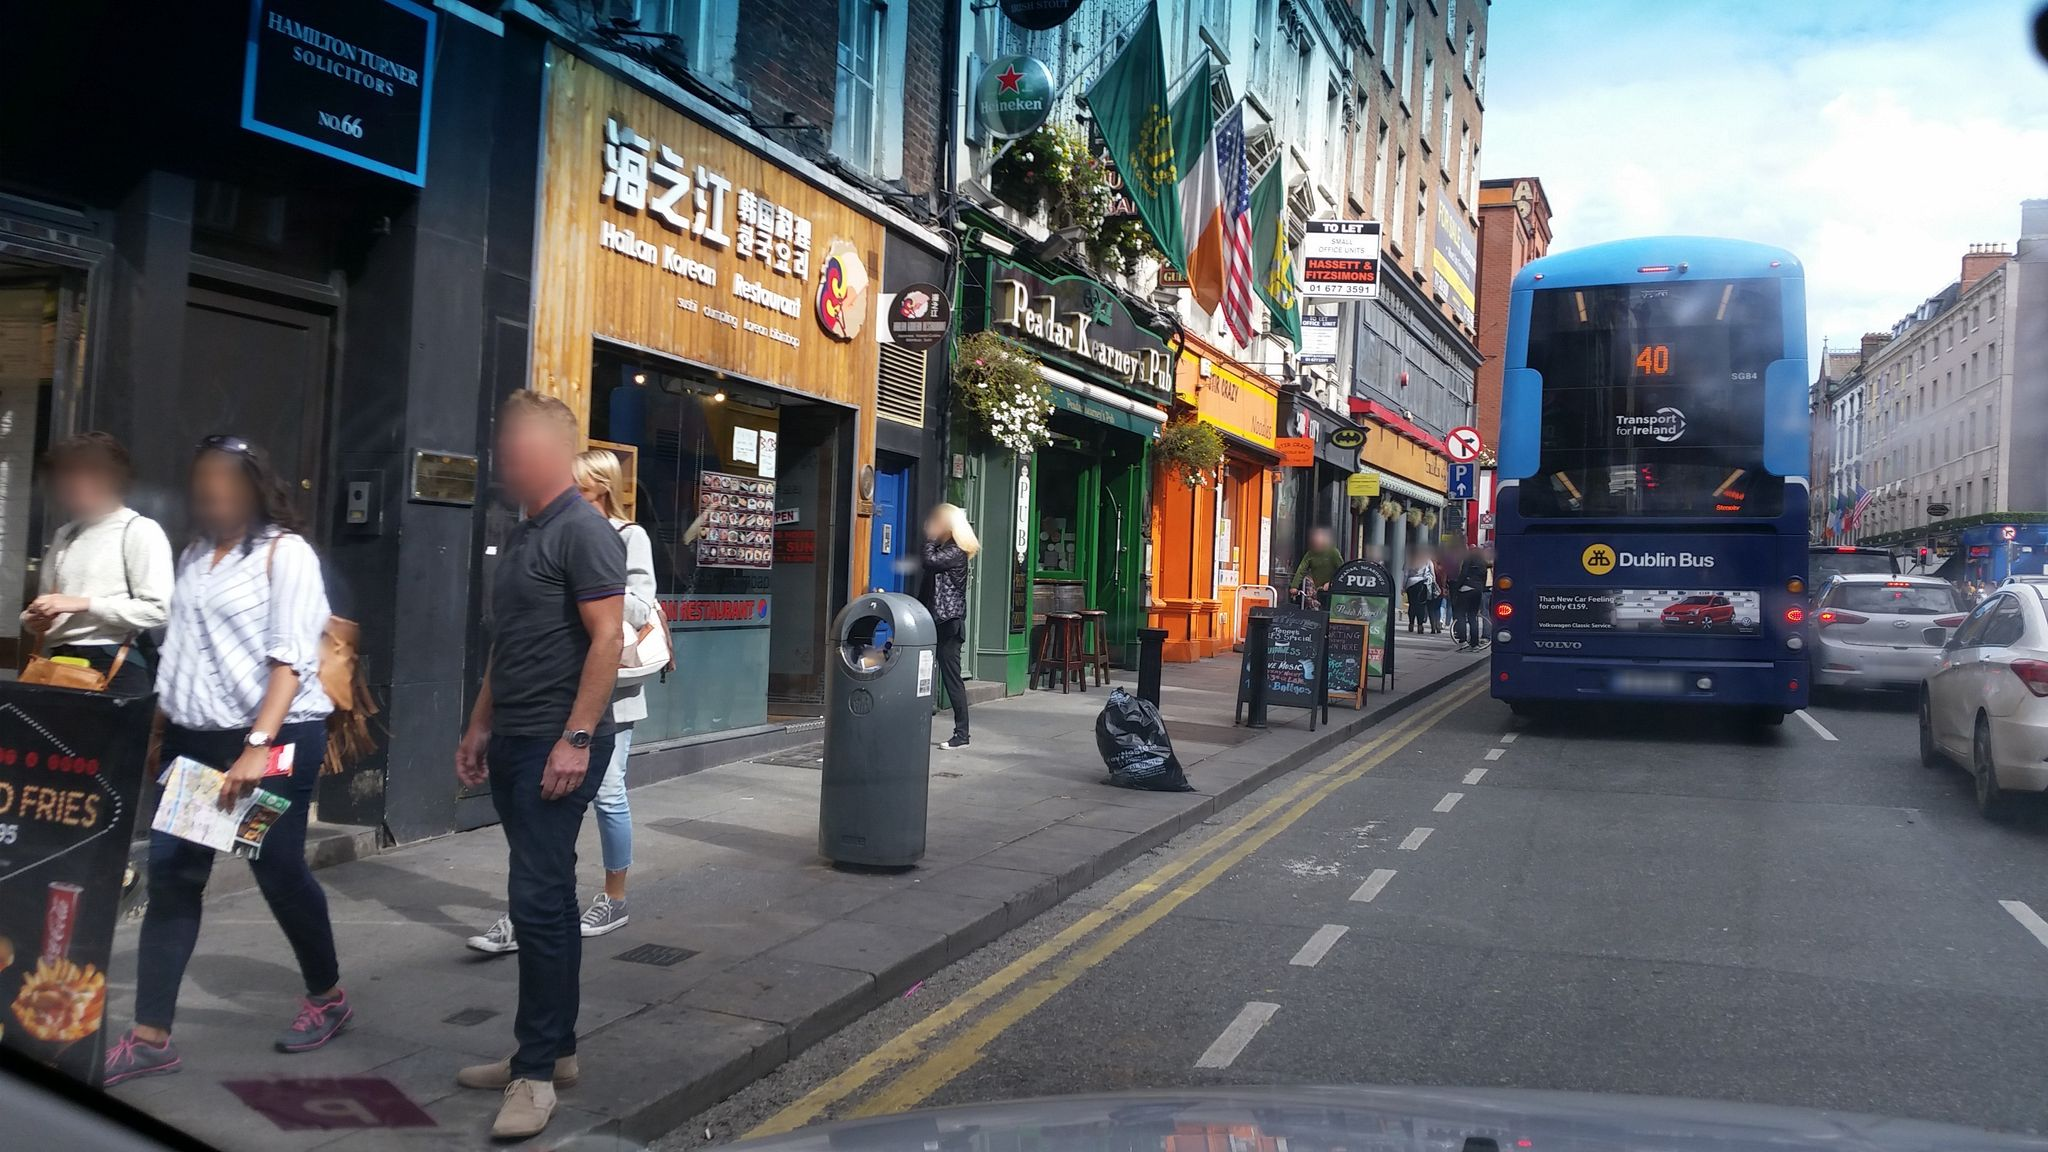property sign: (1300, 201, 1393, 321)
